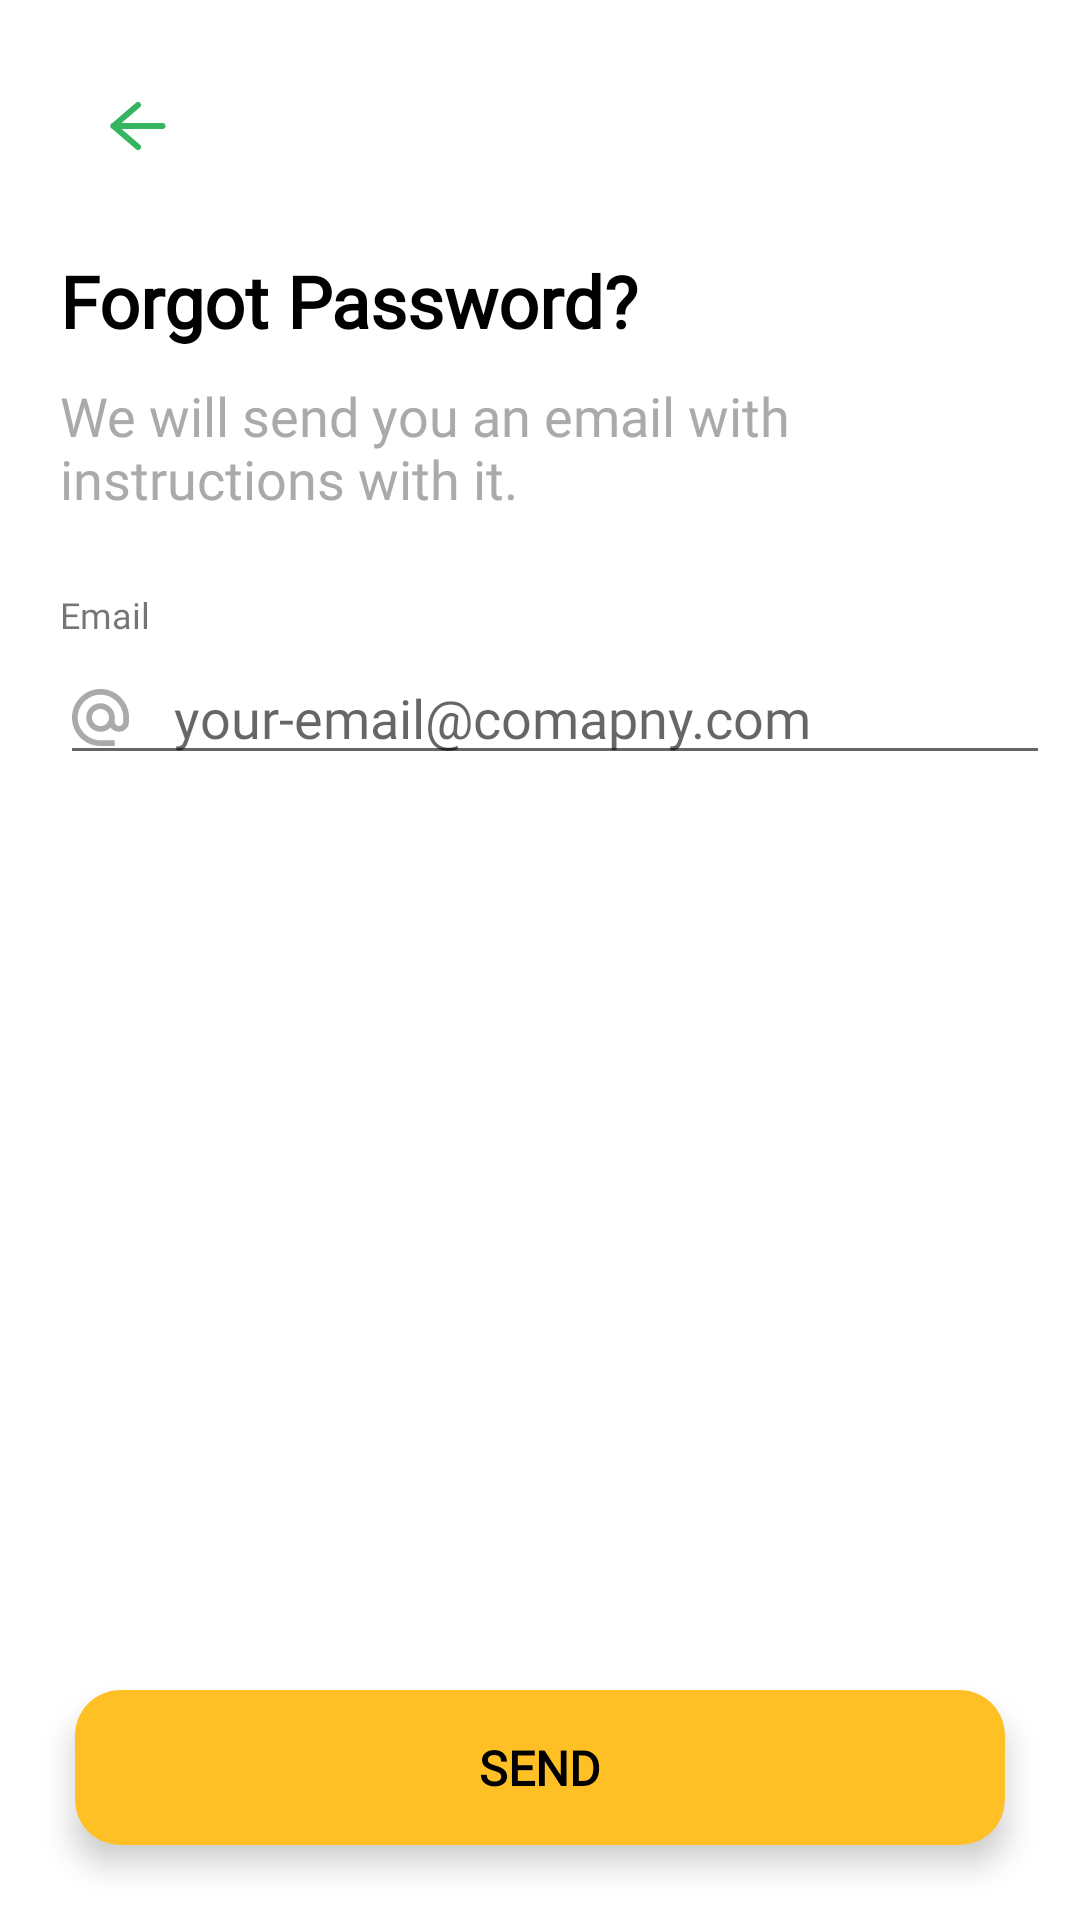

Icon bounding boxes for this 1080×1920 phone screenshot, format (x1=x1, y1=y1, x2=x2, y2=y2):
arrow left: (x1=110, y1=102, x2=166, y2=150)
